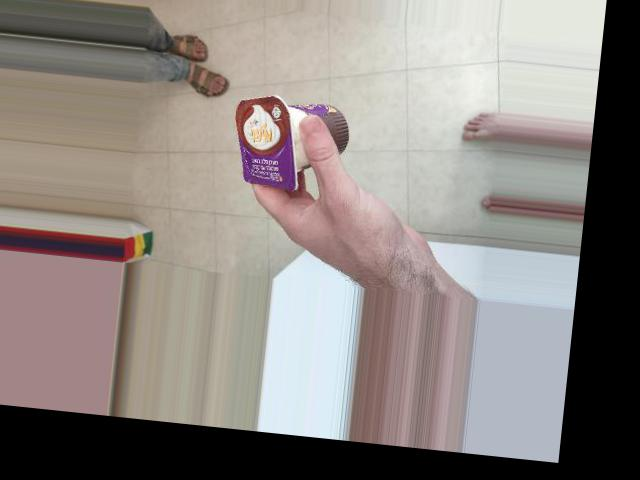milky: (219, 52, 321, 183)
